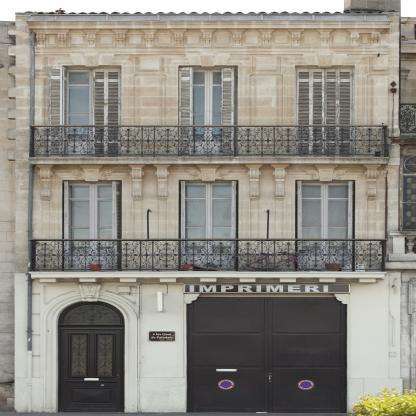Balcony: (29, 239, 387, 272), (29, 125, 387, 157)
Building Outline: (14, 0, 401, 413)
Cornice: (304, 164, 349, 181), (186, 164, 231, 181), (69, 164, 113, 181), (69, 51, 114, 67), (302, 51, 347, 67), (185, 51, 230, 67), (78, 283, 104, 302)
Deco: (35, 163, 54, 200), (363, 164, 382, 201), (271, 163, 290, 200), (245, 163, 264, 200), (153, 163, 172, 200), (128, 163, 147, 200)
Door: (187, 297, 348, 413), (56, 300, 125, 412)
Facade: (16, 11, 400, 413)
Floor: (16, 165, 400, 272)
Floor Slab: (16, 157, 400, 165), (16, 272, 400, 280)
Ground Floor: (16, 279, 400, 413)
Molding: (29, 21, 390, 46), (32, 277, 384, 282)
Shop: (184, 284, 350, 293)
Top Floor: (16, 29, 400, 157)
Window: (296, 65, 355, 157), (62, 65, 121, 157), (179, 65, 238, 157), (296, 180, 355, 271), (63, 180, 122, 271), (179, 180, 238, 271)
